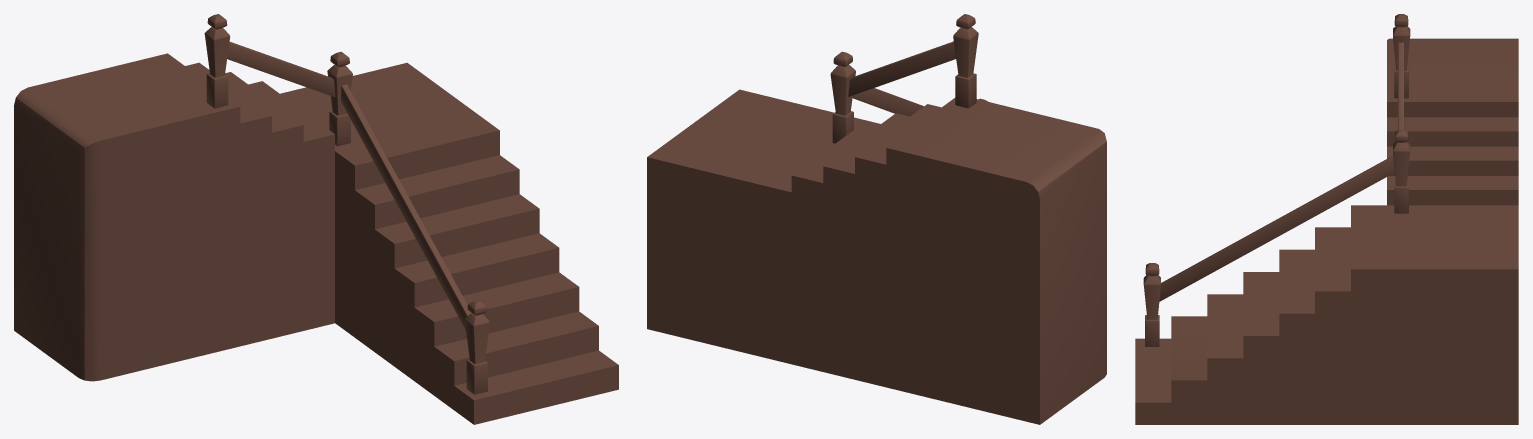
Rendered from Stairs.fbx.
The picture shows the model from 3 angles, left to right: view 1: azimuth 30°, elevation 25°; view 2: azimuth 150°, elevation 25°; view 3: azimuth 270°, elevation 25°; orthographic projection. The views are drawn at different scales.
Parts seen in each view (by area): view 1: Cube.036, Cube.041, Cube.037; view 2: Cube.036, Cube.037, Cube.041; view 3: Cube.036, Cube.041, Cube.037.
Boxes of the visible parts, x1,y1,x2,y2 form: Cube.036: (14, 53, 618, 424); Cube.041: (227, 42, 471, 329); Cube.037: (204, 14, 489, 394); Cube.036: (647, 89, 1106, 424); Cube.037: (830, 14, 988, 143); Cube.041: (848, 41, 956, 116); Cube.036: (1135, 38, 1518, 424); Cube.041: (1159, 42, 1404, 301); Cube.037: (1143, 14, 1410, 346).
Bounding box in the file's own units: 343 × 274 × 320.
